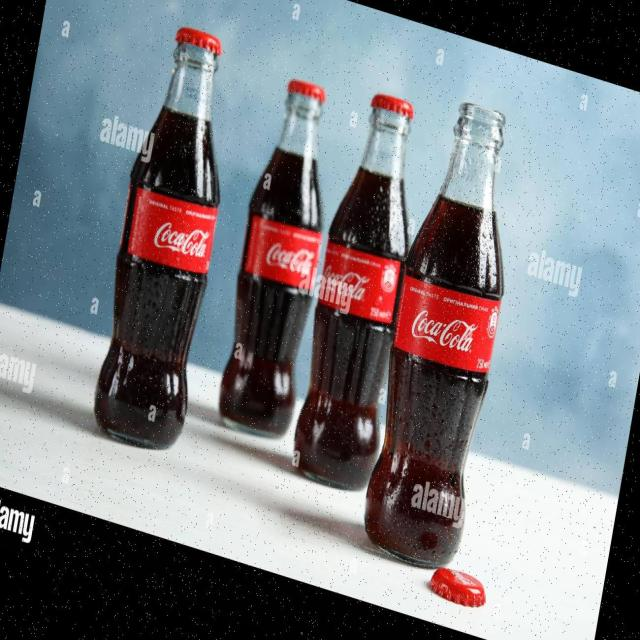coca-cola: (352, 78, 540, 589), (79, 7, 254, 466), (286, 73, 440, 511), (207, 66, 350, 456)
